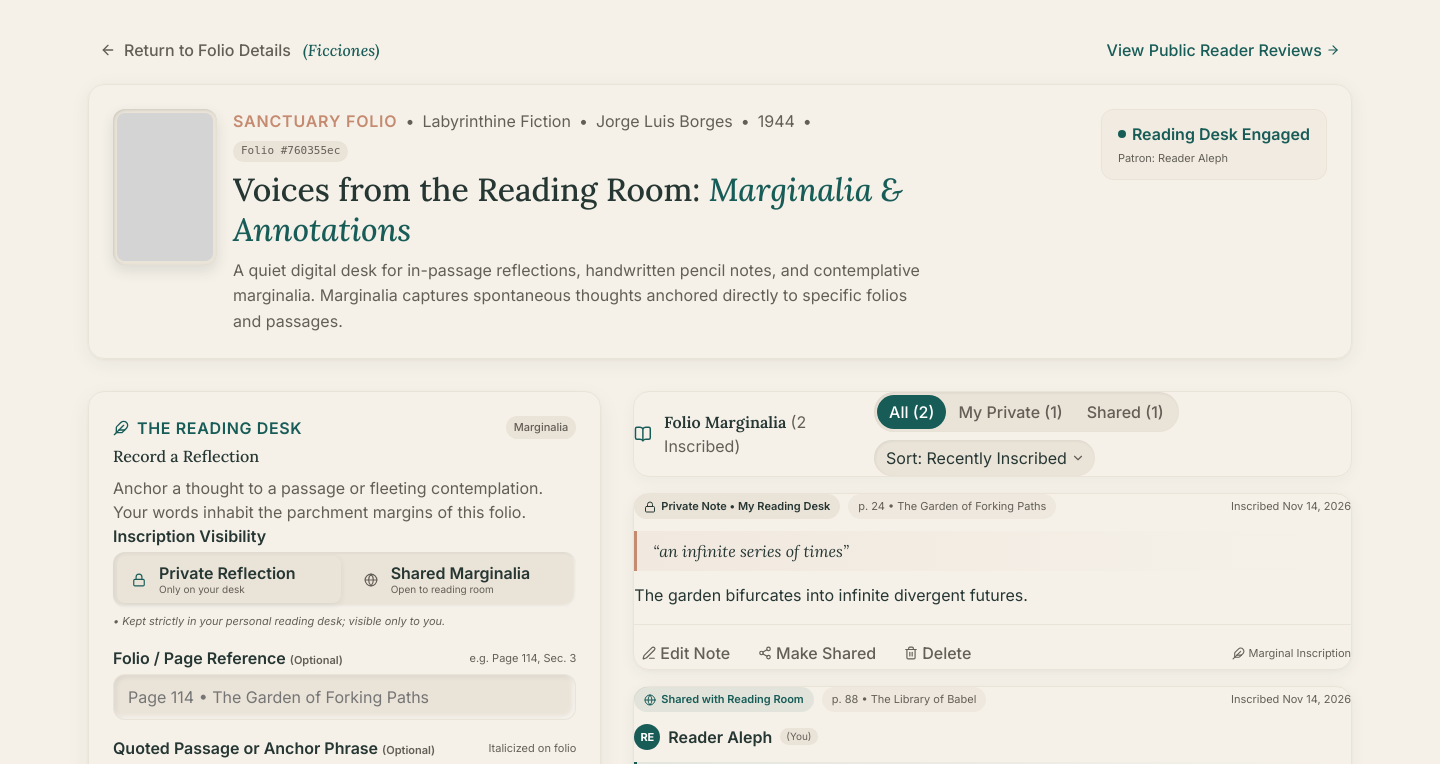
Scenario: ReadingRoomPage › filters annotations by tab: All Notes, My Private, Shared
Expected: the text "The garden bifurcates into infinite divergent futures." is shown, [634,585,1028,605]
Switch to "My Private" tab
Step 1. Click the tab "My Private (1)" → {"x": 1011, "y": 412}, box [946,395,1075,429]
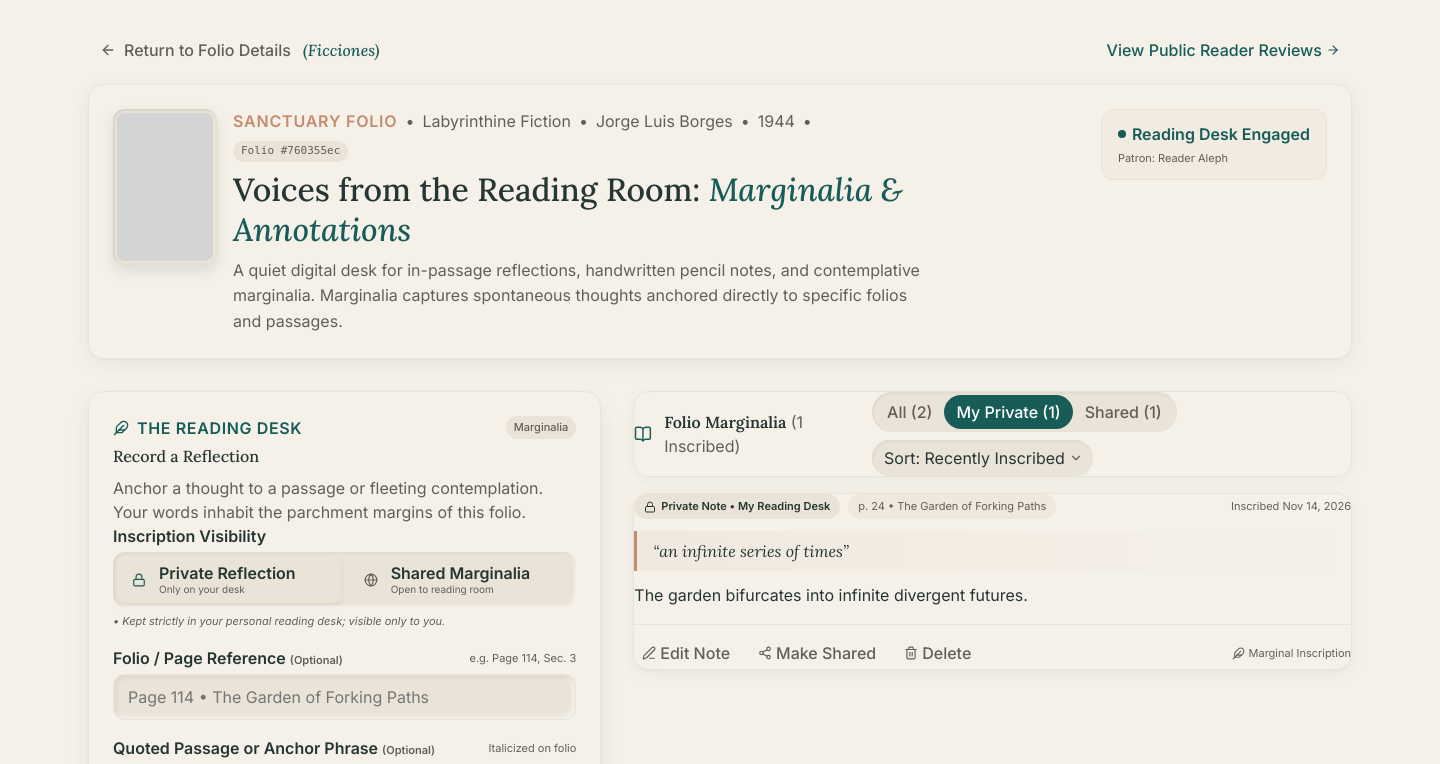
Expected: the text "The garden bifurcates into infinite divergent futures." is shown, [634,585,1028,605]
Switch to "Shared" tab
Step 2. Click the tab "Shared (1)" → {"x": 1123, "y": 412}, box [1073,395,1174,429]
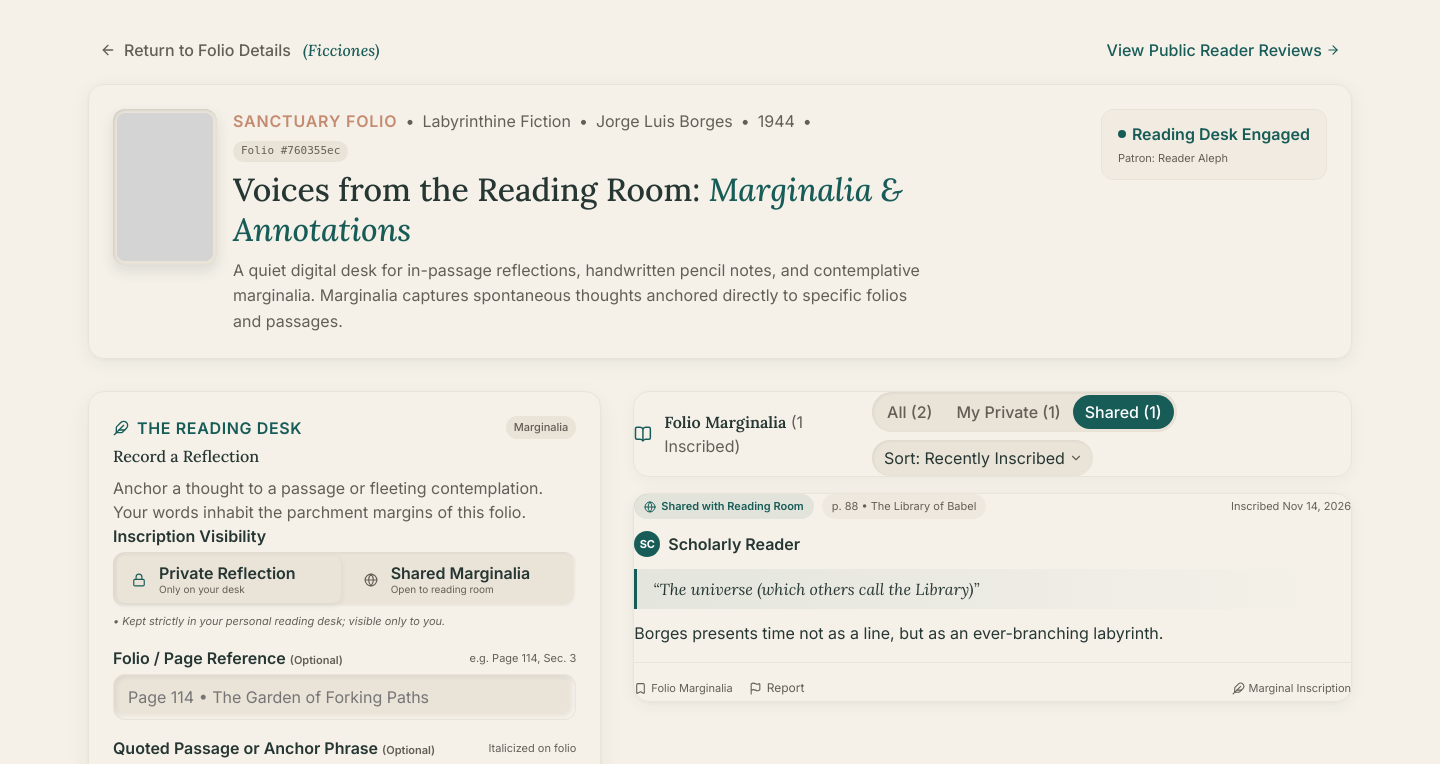
Expected: the text "The garden bifurcates into infinite divergent futures." is gone
Expected: the text "Borges presents time not as a line, but as an ever-branching labyrinth." is shown, [634,623,1163,643]
